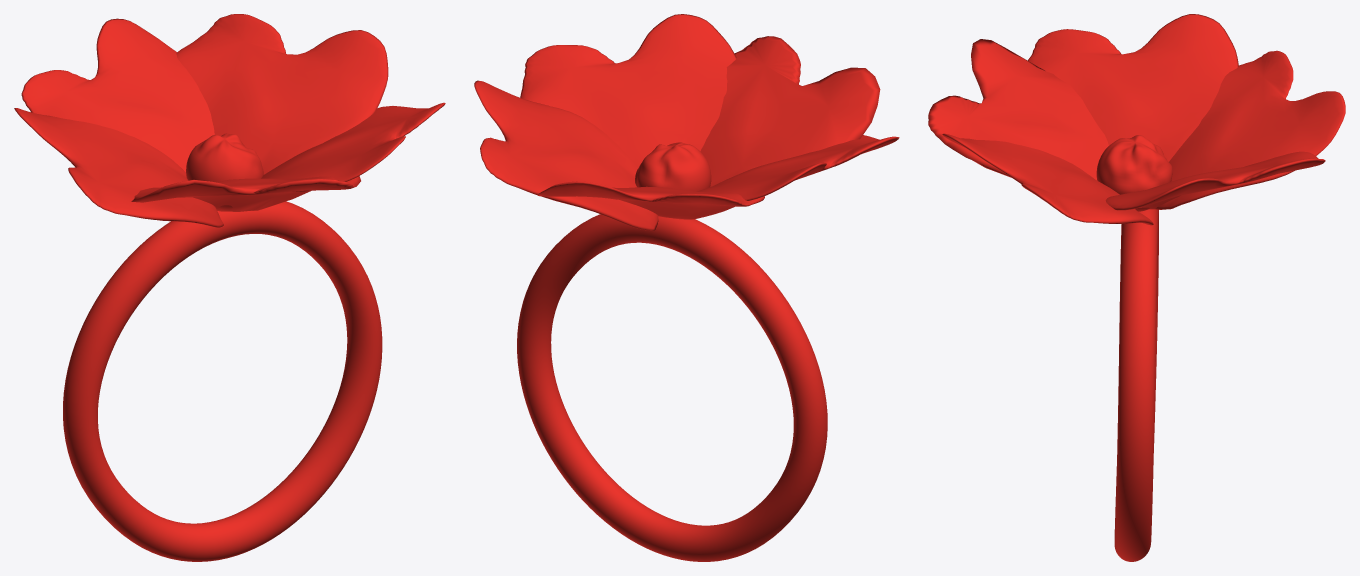
Rendered from mak.glb.
The picture shows the model from 3 angles, left to right: view 1: azimuth 30°, elevation 25°; view 2: azimuth 150°, elevation 25°; view 3: azimuth 270°, elevation 25°; orthographic projection. The views are drawn at different scales.
Visible parts, largest first — view 1: BézierCurve.022; view 2: BézierCurve.022; view 3: BézierCurve.022.
Part boxes in pixels (bbox=[...]): BézierCurve.022: bbox=[14, 14, 445, 561]; BézierCurve.022: bbox=[474, 14, 899, 561]; BézierCurve.022: bbox=[928, 14, 1345, 561].
Bounding box in the file's own units: 32.32 × 38.87 × 32.51.
